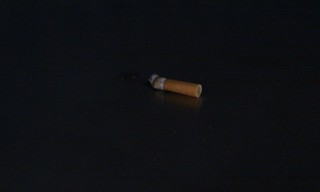cigarette: (146, 71, 205, 100)
